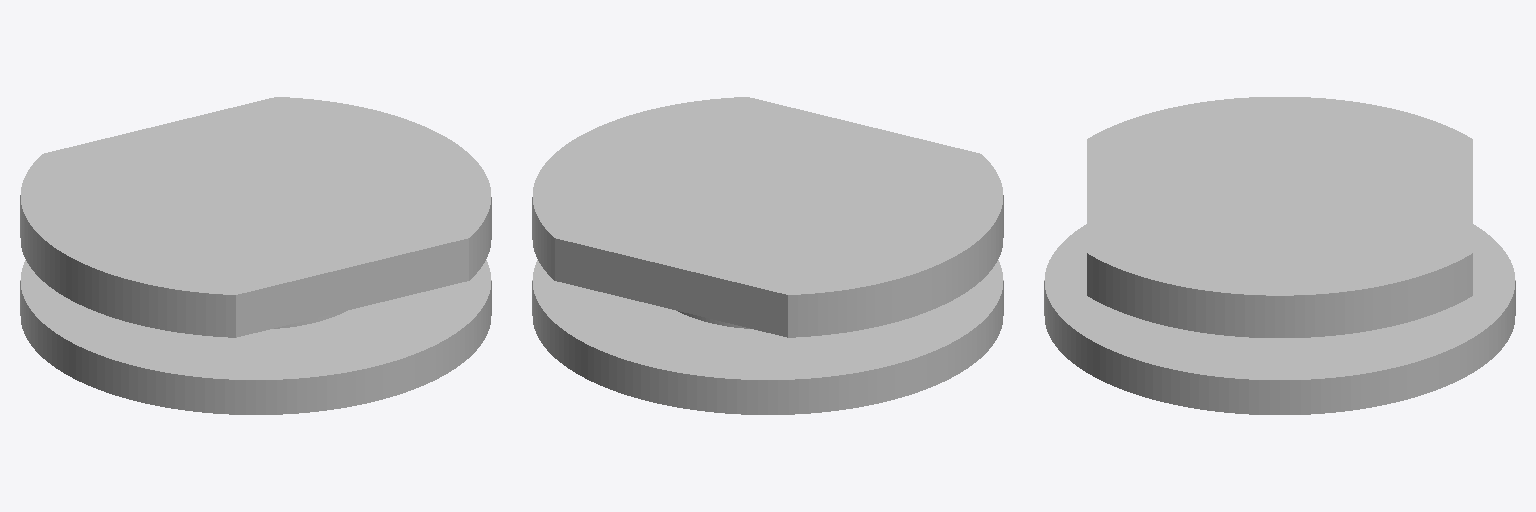
robot.urdf — KukaConnector_2:
<?xml version="1.0"?>
<!-- This URDF was automatically created by SolidWorks to URDF Exporter! Originally created by [author] ([email redacted]) 
     Commit Version: 1.5.1-0-g916b5db  Build Version: 1.5.7152.31018
     For more information, please see http://wiki.ros.org/sw_urdf_exporter -->
<robot  name="KukaConnector_2" xmlns:controller="http://playerstage.sourceforge.net/gazebo/xmlschema/#controller" xmlns:interface="http://playerstage.sourceforge.net/gazebo/xmlschema/#interface" xmlns:sensor="http://playerstage.sourceforge.net/gazebo/xmlschema/#sensor"   xmlns:xacro="http://www.ros.org/wiki/xacro">

  <material name="Silver">
    <color rgba="0.82 0.82 0.82 1.0"/>
  </material>
  <!-- Commented out world joint so it works with multibodyplant-->
  <!-- <link name="world"/>
  <joint name="connector_base" type="fixed">
    <origin rpy="0 0 0" xyz="0 0 0"/>
    <parent link="world"/>
    <child link="connector_link"/>
  </joint> -->
  <link name="connector_link">
    <inertial>
      <origin
        xyz="0 0 0"
        rpy="0 0 0" />
      <mass
        value="0.031852" />
      <inertia
        ixx="7.8593E-06"
        ixy="0"
        ixz="1.4686E-12"
        iyy="1.2853E-05"
        iyz="0"
        izz="7.2265E-06" />
      </inertial>
    <visual>
      <origin
        xyz="0 0 0"
        rpy="0 0 1.5707963267949" />
      <geometry>
        <mesh filename="../meshes/iiwa7_third/visual/Schunk_Adapter.obj" scale="0.001 0.001 0.001"/>
      </geometry>
      <material name = "Silver"/>
    </visual>
    <!-- <collision>
      <origin
        xyz="0 0 0"
        rpy="0 0 1.5707963267949" />
      <geometry>
        <mesh filename="../meshes/Schunk_Adapter_Collision.obj" scale="0.001 0.001 0.001" />
      </geometry>
    </collision> -->
  </link>
  <joint name="connector_joint" type="fixed">
    <parent link="connector_link"/>
    <child link="connector_frame_link"/>
    <origin rpy="0 0 0" xyz="0 0 0"/>
  </joint>
  <link name="connector_frame_link">
  </link>
  <frame link="connector_frame_link" name="connector_frame" rpy="0 0 0" xyz="0 0 0.0175"/>

  <!-- Link0 -->
  <gazebo reference="connector_link">
    <material>Gazebo/Grey</material>
    <mu1>0.2</mu1>
    <mu2>0.2</mu2>
  </gazebo>

</robot>

--- What the picture shows (computed from the rendered views, not written in the file) ---
Views: 3 orthographic renders of the robot side by side, from view 1: azimuth 30°, elevation 25°; view 2: azimuth 150°, elevation 25°; view 3: azimuth 270°, elevation 25°.
Robot: KukaConnector_2 — 2 links, 1 joints (1 fixed); root link connector_link; default pose: every joint at zero.
Visible links, largest first — view 1: connector_link; view 2: connector_link; view 3: connector_link.
Boxes of the visible links, x1,y1,x2,y2 form: connector_link: (20,97,491,414); connector_link: (532,97,1003,414); connector_link: (1044,97,1515,414).
Bounding box of the posed robot: 0.061 × 0.061 × 0.0201 m (x, y, z).
Meshes: 1 distinct files referenced, 1 mesh visuals loaded (1 OBJ).